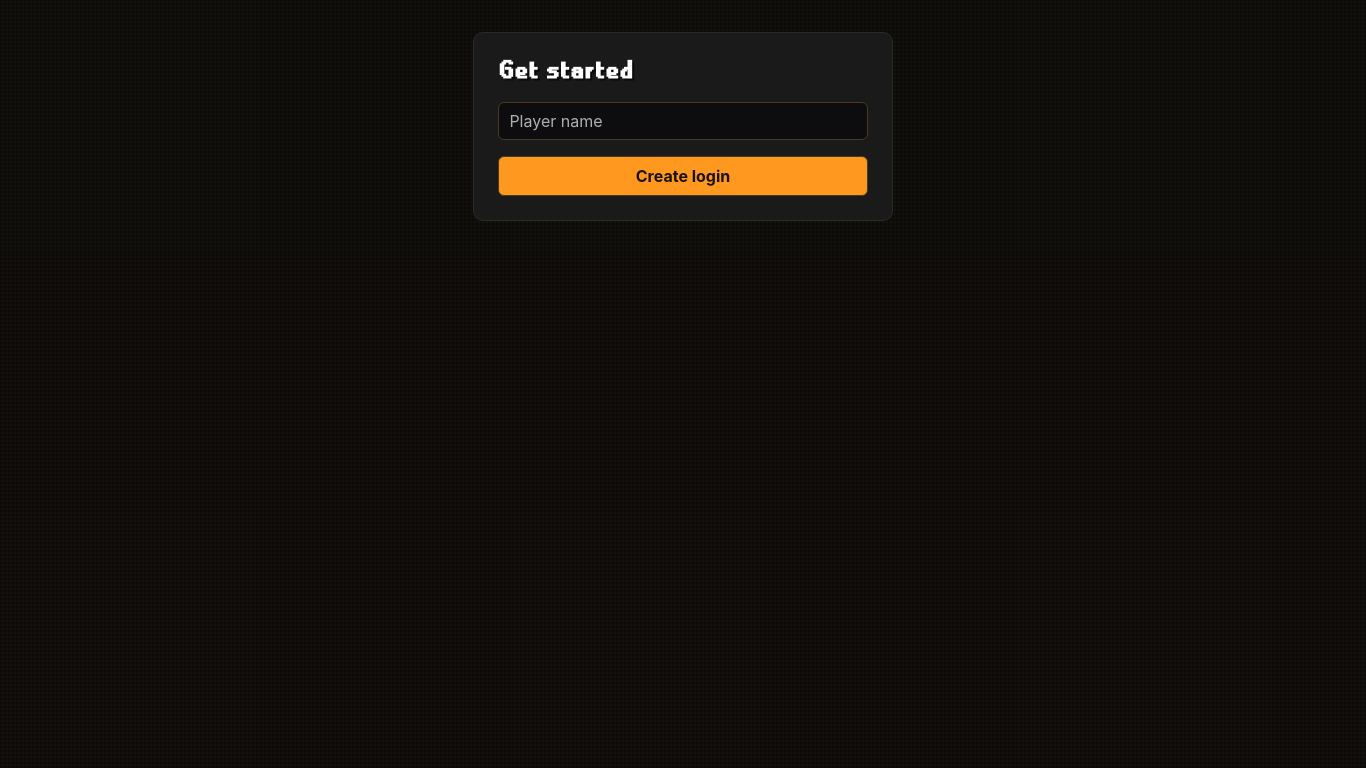
CreateLogin › rejects submission with an invalid player name without calling the API
The image size is (1366, 768).
Type "bad name!!" into the field named "Your OSRS name" at (683, 121), box top-left (498, 102), bottom-right (868, 140)
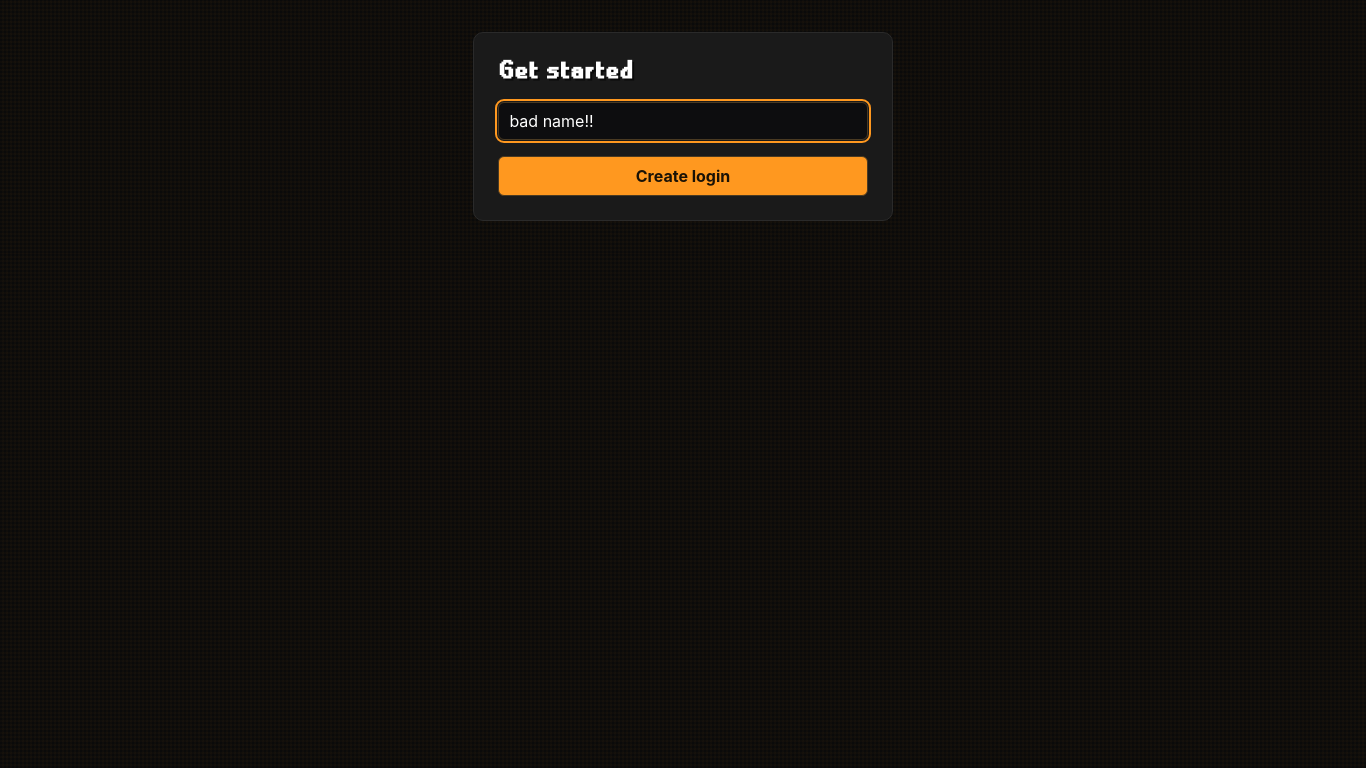
Click the button "Create login" at (683, 176), box top-left (498, 156), bottom-right (868, 196)
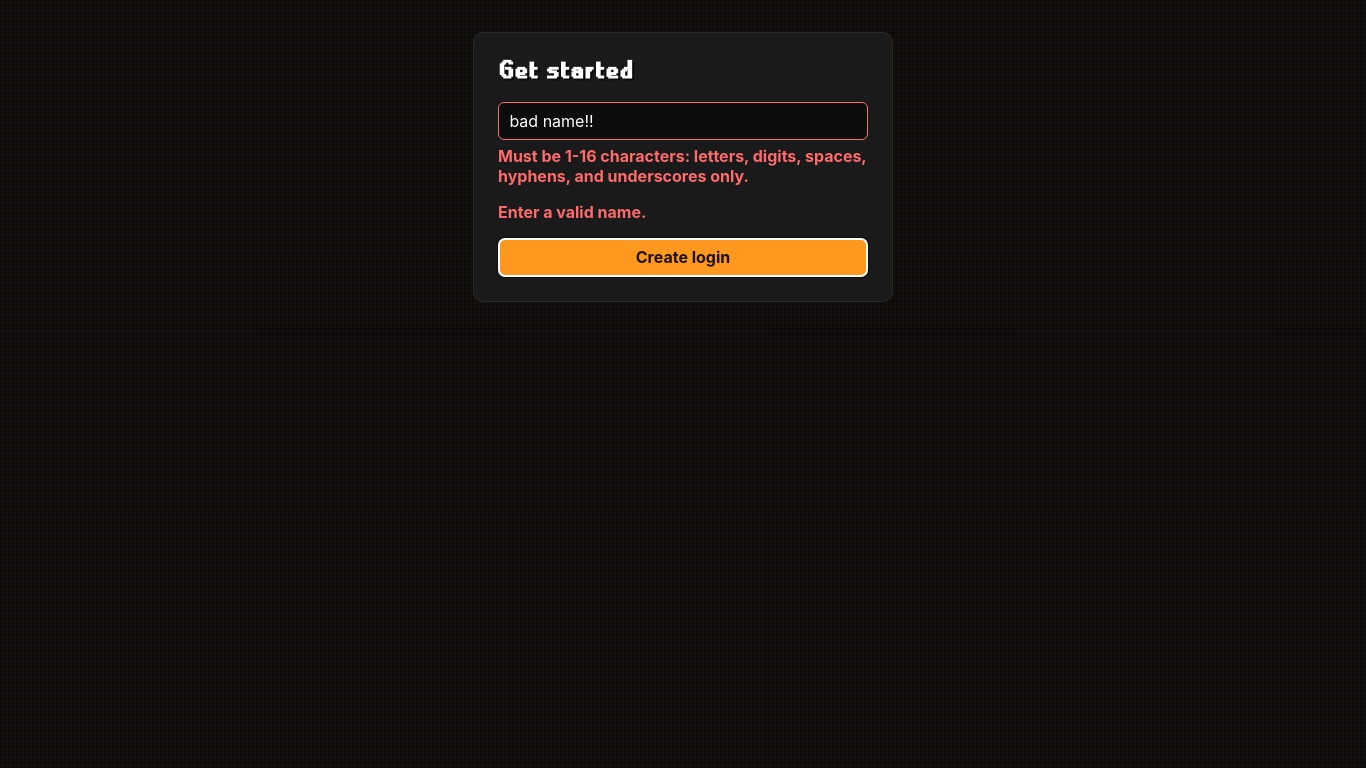
Expected: the text "Enter a valid name." is shown, top-left (498, 202), bottom-right (646, 222)
